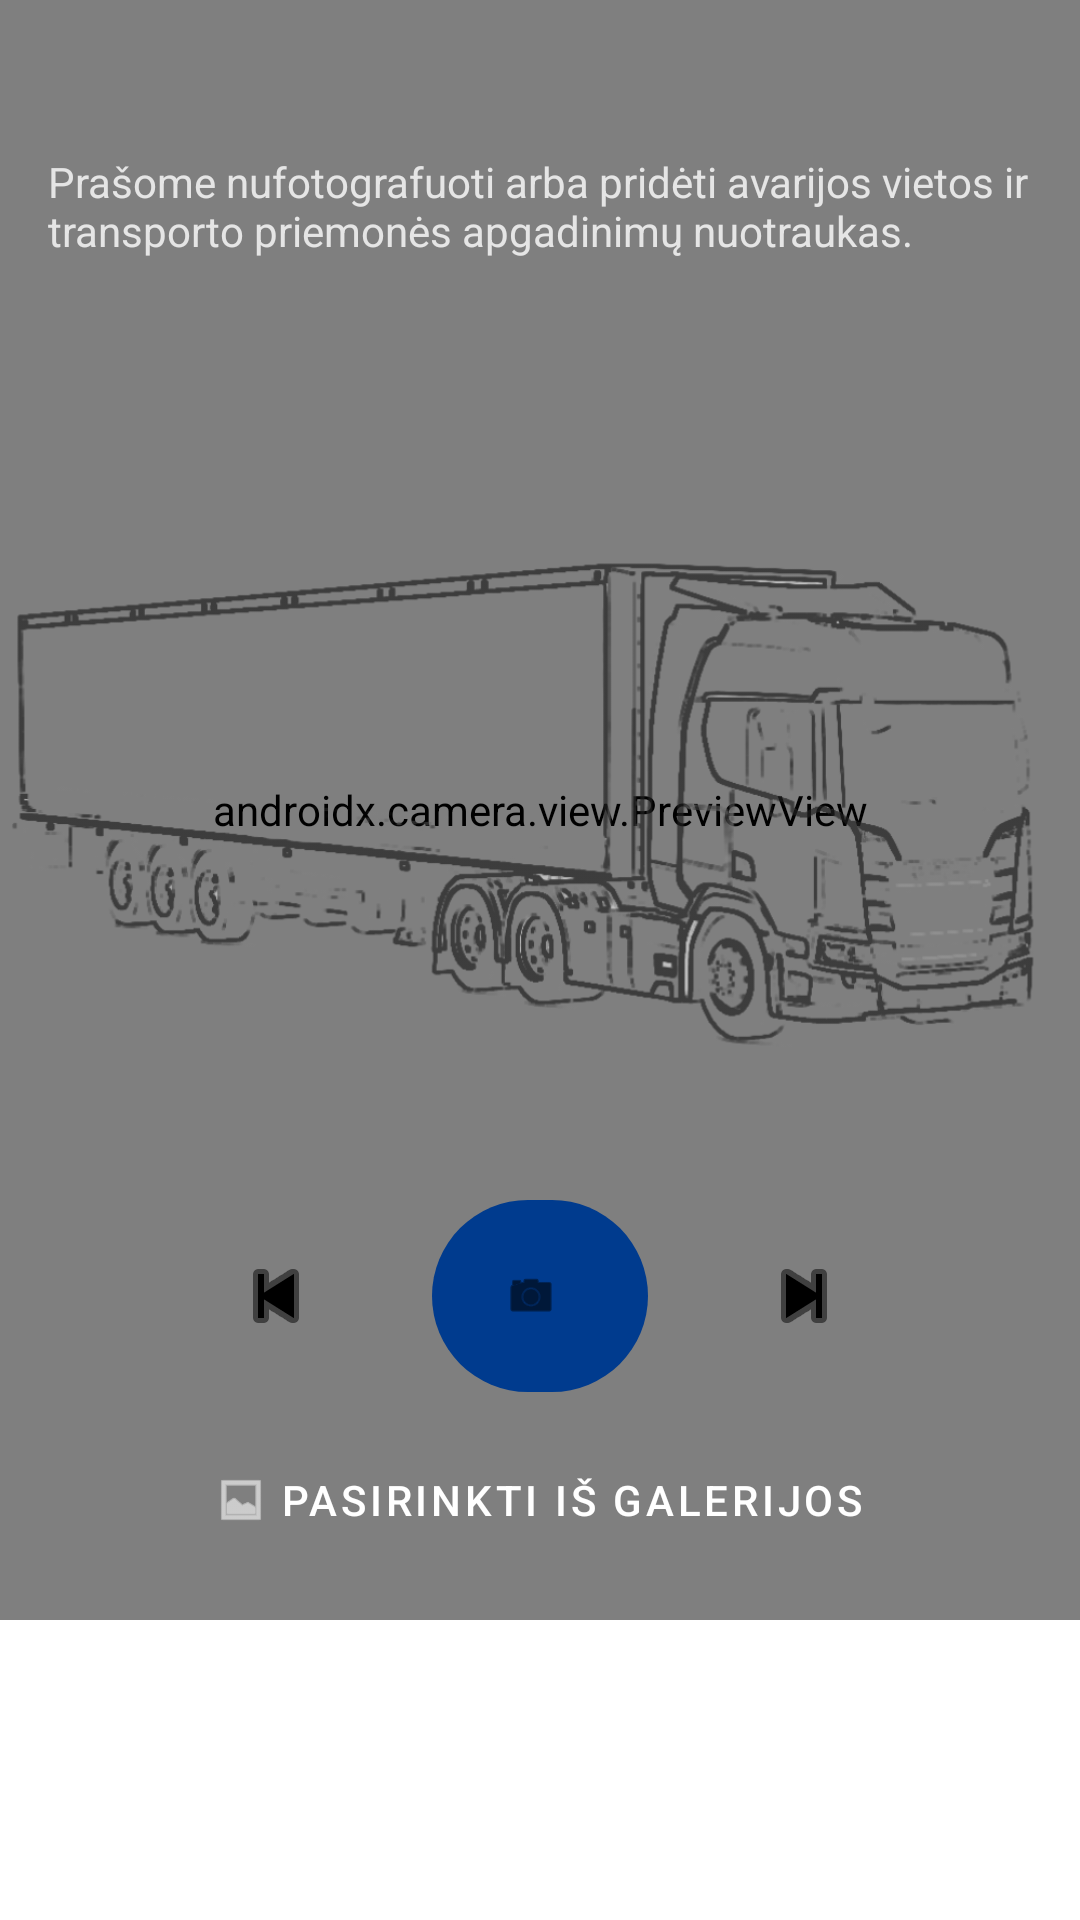

Named icons in this screenshot (1080x1920) and their centers, point (x, y):
Next overlay: point (804, 1296)
Previous overlay: point (276, 1296)
Take photo: point (540, 1296)
